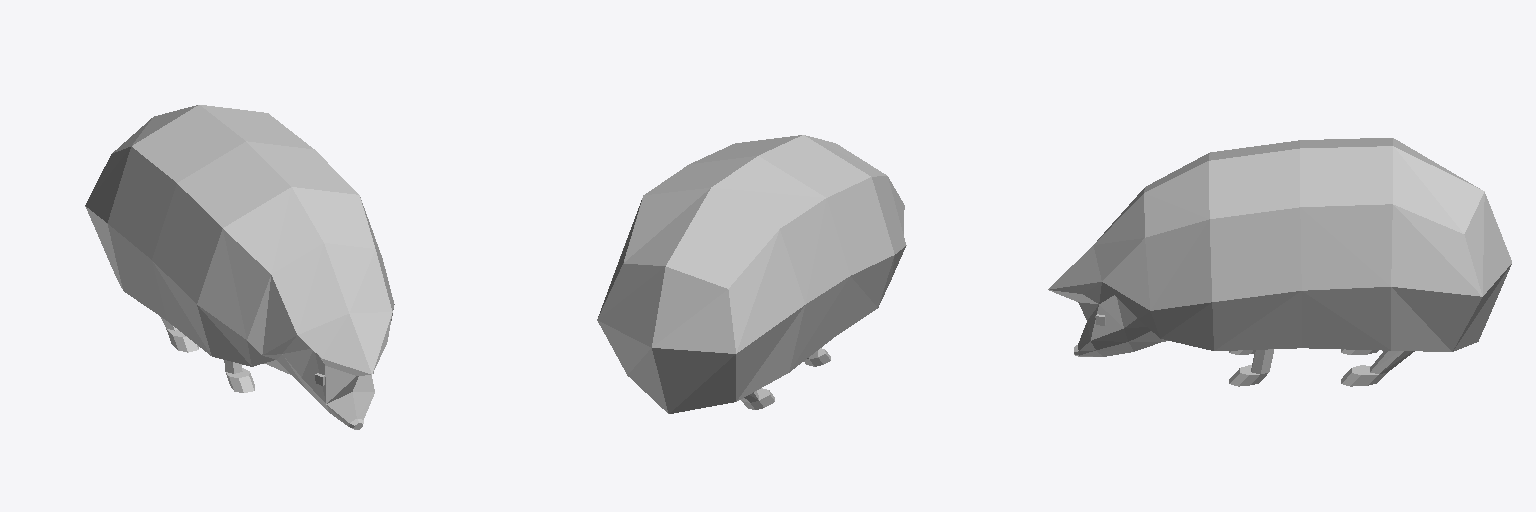
Rendered from Mesh_Hedgehog.obj.
The picture shows the model from 3 angles: view 1: azimuth 30°, elevation 25°; view 2: azimuth 150°, elevation 25°; view 3: azimuth 270°, elevation 25°; orthographic projection.
Parts seen in each view (by area): view 1: Geo_Hedgehog; view 2: Geo_Hedgehog; view 3: Geo_Hedgehog.
Boxes of the visible parts, x1=… form: Geo_Hedgehog: x1=85, y1=105, x2=394, y2=429; Geo_Hedgehog: x1=597, y1=135, x2=906, y2=413; Geo_Hedgehog: x1=1048, y1=138, x2=1511, y2=386.
Bounding box in the file's own units: 55 × 61.9 × 119.